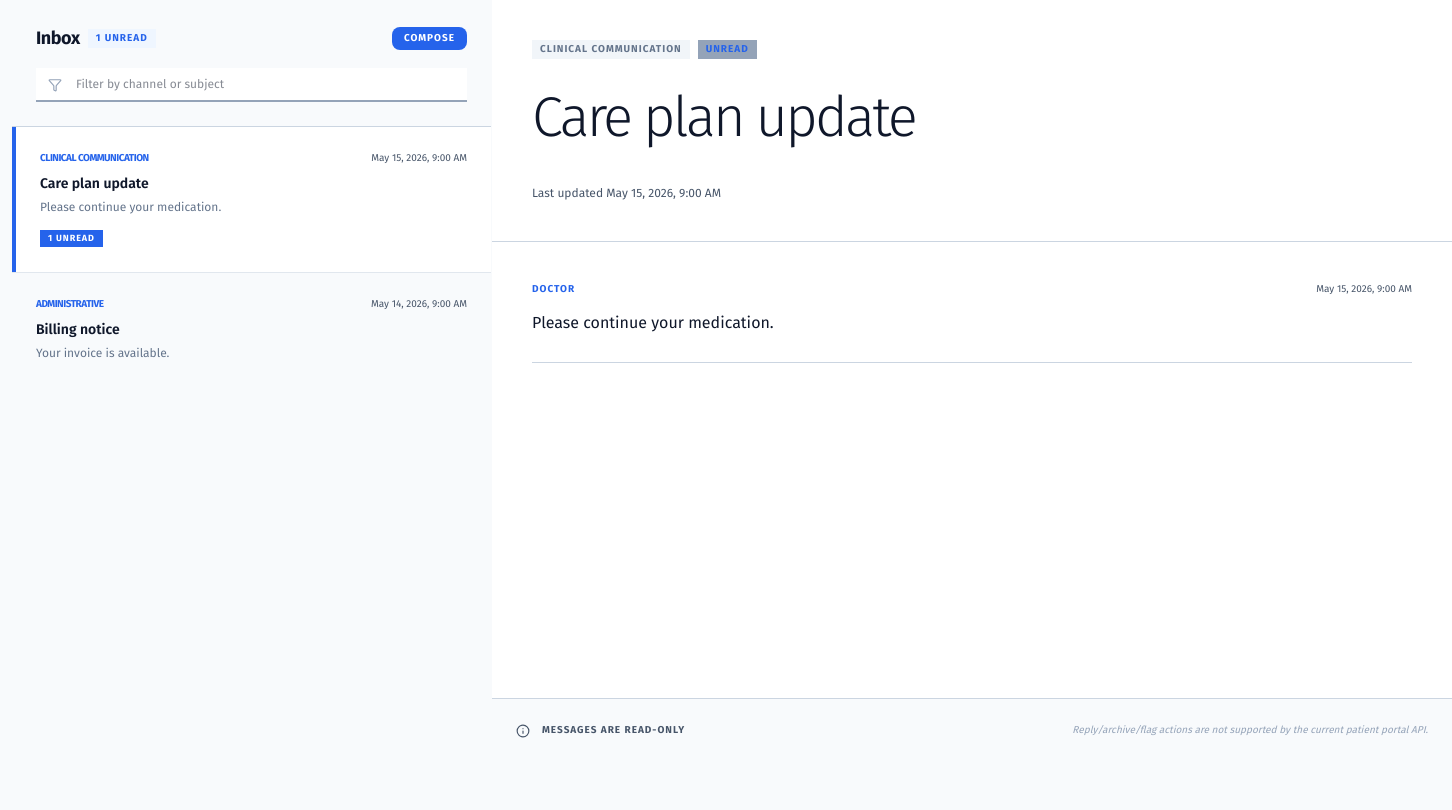
Test: PatientMessagesPage › selects and filters real threads
Click the button "Billing notice": point(70, 304) [12,272,491,387]
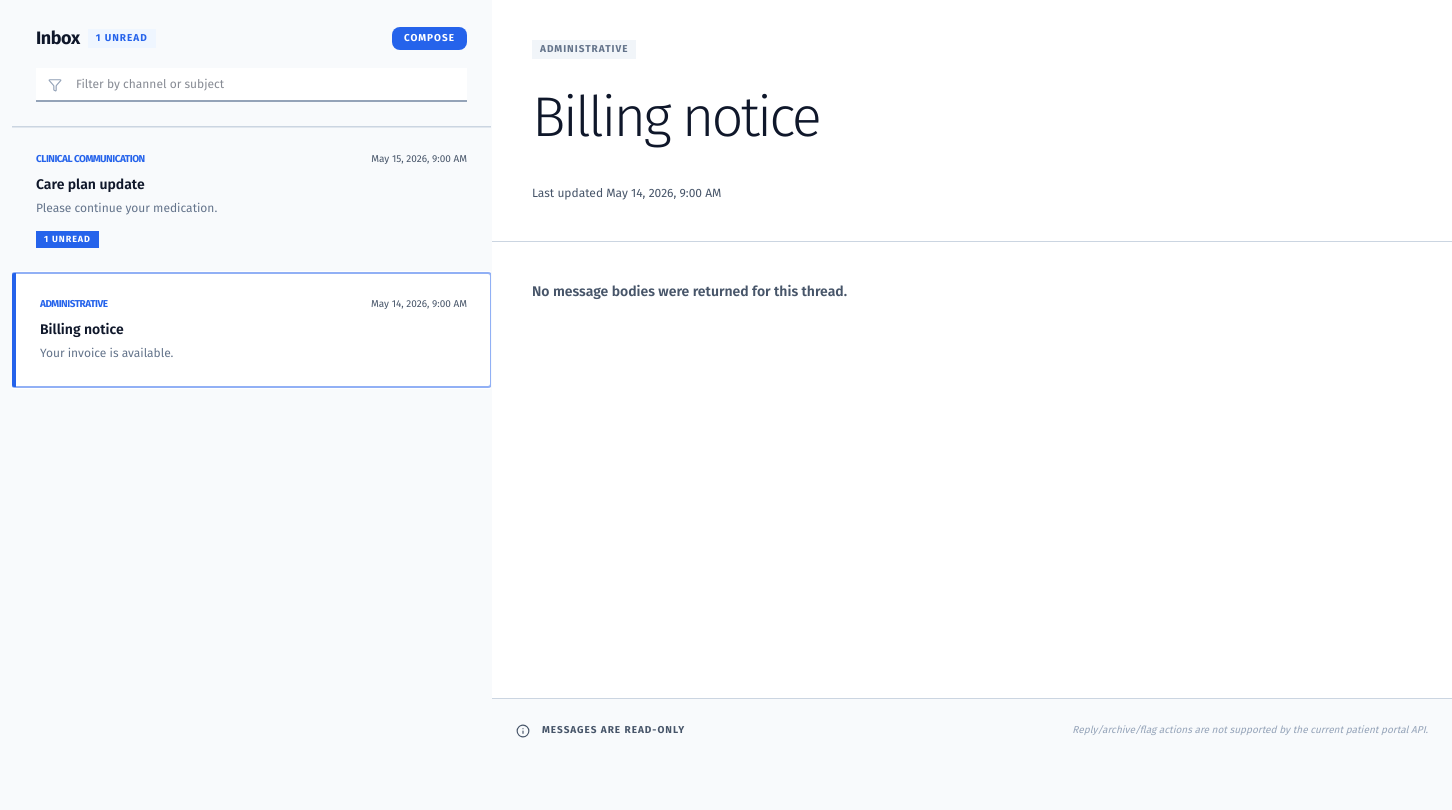
Expected: the number of headings "Billing notice" is 2, [40,320,124,338]; [532,84,819,151]
In the search field named "filter messages": point(252, 85) [36,68,467,102], type "clinical"
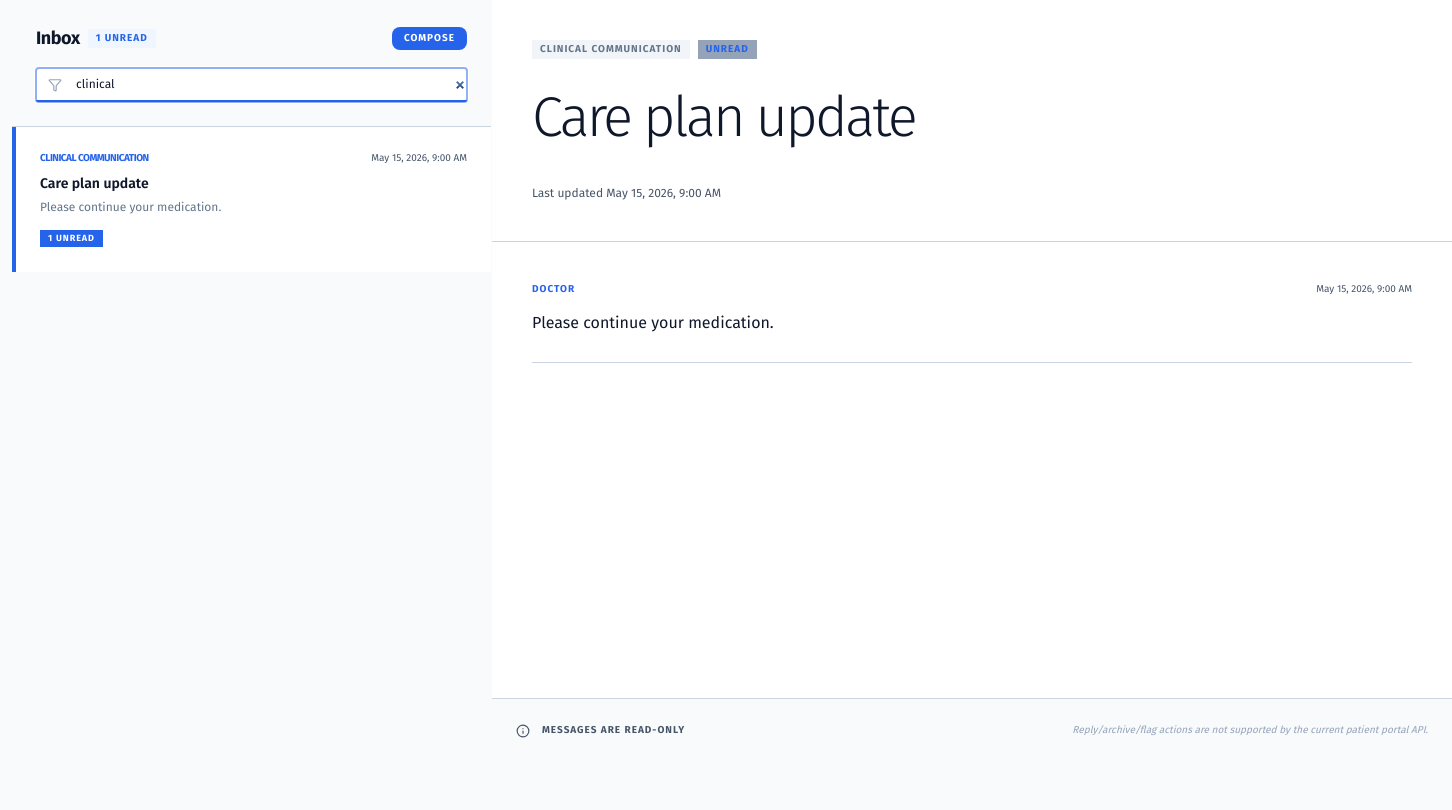
Result: the number of headings "Care plan update" is 2 at [40,175,149,192]; [532,84,915,151]
Result: the button "Billing notice" is gone
